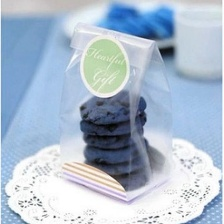snack: (44, 16, 178, 208)
